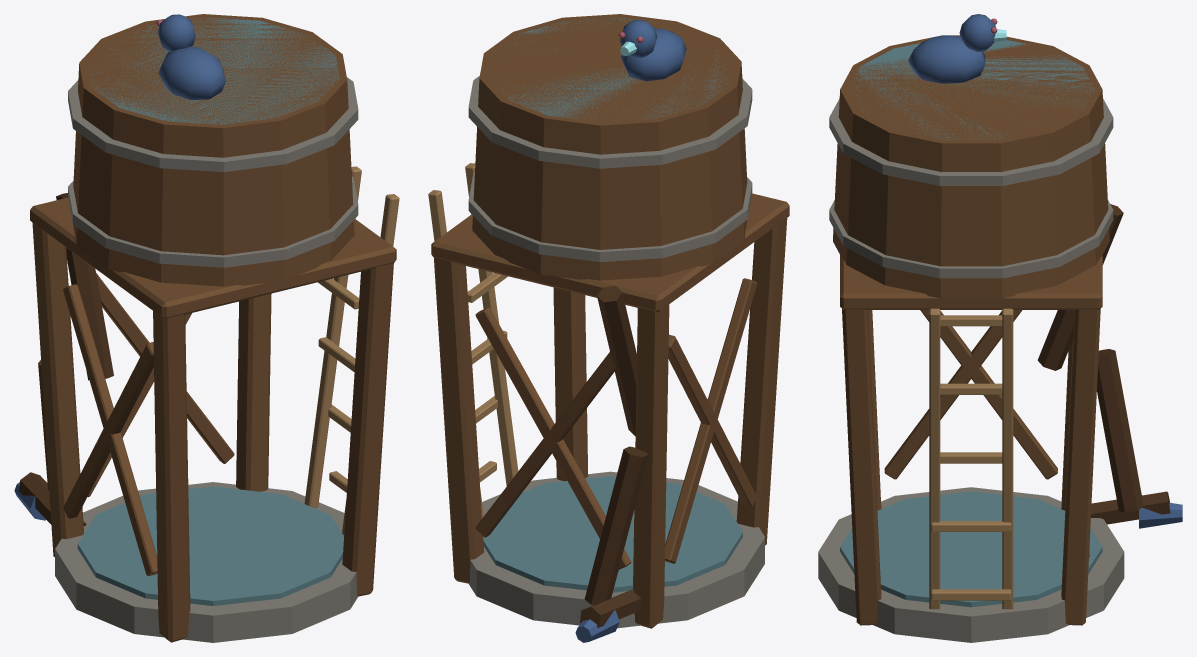
The model's file is cistern_l2.fbx.
3 renders of one model, left to right at view 1: azimuth 30°, elevation 25°; view 2: azimuth 150°, elevation 25°; view 3: azimuth 270°, elevation 25°, orthographic. The views are drawn at different scales.
Visible parts, largest first — view 1: Building; view 2: Building; view 3: Building.
Part boxes in pixels (x1=…): Building: x1=14, y1=14, x2=399, y2=642; Building: x1=428, y1=14, x2=789, y2=642; Building: x1=818, y1=14, x2=1182, y2=642.
Size of the model in its own units: 0.9274 by 1 by 1.66.
